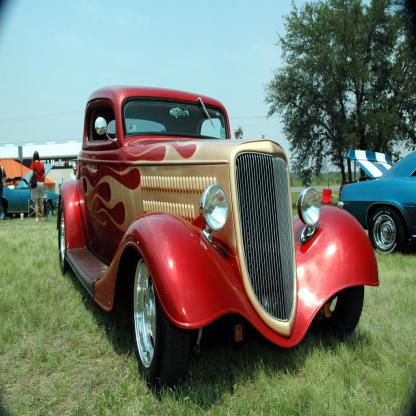Car: (57, 85, 380, 392), (336, 150, 415, 255), (0, 164, 61, 221)
